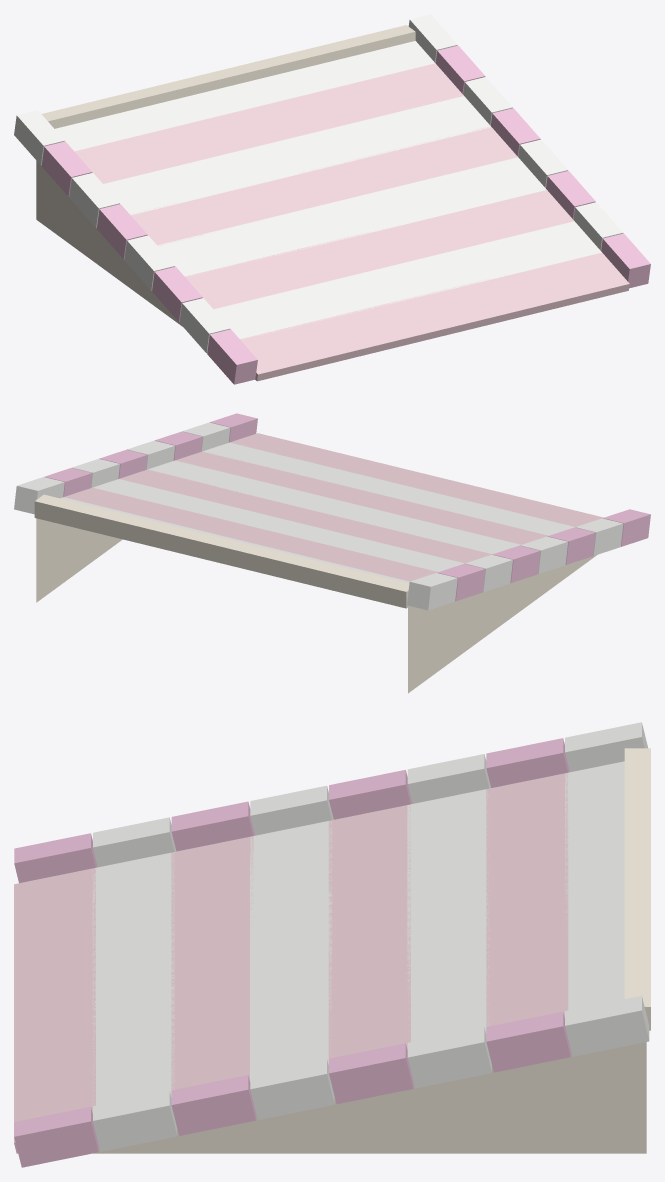
File: draha_stoupani.glb
The picture shows the model from 3 angles, top to bottom: view 1: azimuth 30°, elevation 25°; view 2: azimuth 150°, elevation 25°; view 3: azimuth 270°, elevation 25°; orthographic projection. The views are drawn at different scales.
Visible parts, largest first — view 1: DrahaRampa_white, DrahaRampa_pink, DrahaRampa_lol, DrahaRampa_cream; view 2: DrahaRampa_white, DrahaRampa_pink, DrahaRampa_cream, DrahaRampa_lol; view 3: DrahaRampa_white, DrahaRampa_pink, DrahaRampa_cream, DrahaRampa_lol.
Boxes of the visible parts, box(x1,y1,x2,y2) form: DrahaRampa_white: box(14, 14, 623, 353); DrahaRampa_pink: box(74, 63, 629, 381); DrahaRampa_lol: box(41, 45, 650, 384); DrahaRampa_cream: box(36, 25, 415, 380); DrahaRampa_white: box(14, 422, 623, 610); DrahaRampa_pink: box(64, 433, 603, 581); DrahaRampa_cream: box(34, 494, 596, 693); DrahaRampa_lol: box(44, 413, 650, 601); DrahaRampa_white: box(92, 722, 649, 1151); DrahaRampa_pink: box(14, 773, 568, 1153); DrahaRampa_cream: box(93, 748, 650, 1153); DrahaRampa_lol: box(14, 738, 570, 1167).
Size of the model in its own units: 7.8 by 2 by 7.28.
